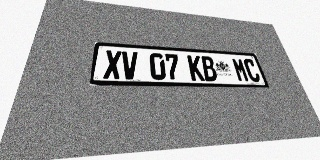0: (149, 53, 166, 80)
7: (164, 54, 181, 80)
B: (200, 56, 218, 81)
C: (242, 58, 262, 82)
K: (187, 55, 205, 81)
M: (231, 58, 250, 82)
V: (121, 51, 138, 79)
X: (103, 50, 122, 79)
